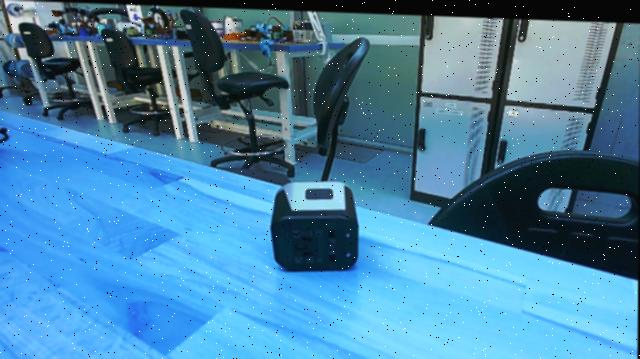adapter: (264, 177, 366, 271)
